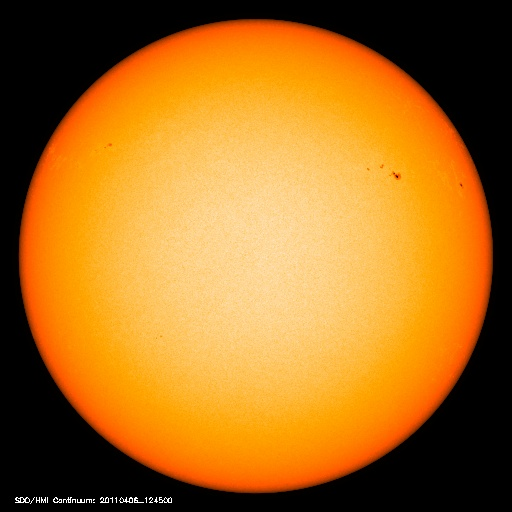sunspot: (357, 157, 409, 184), (86, 133, 121, 158), (451, 175, 470, 195)
